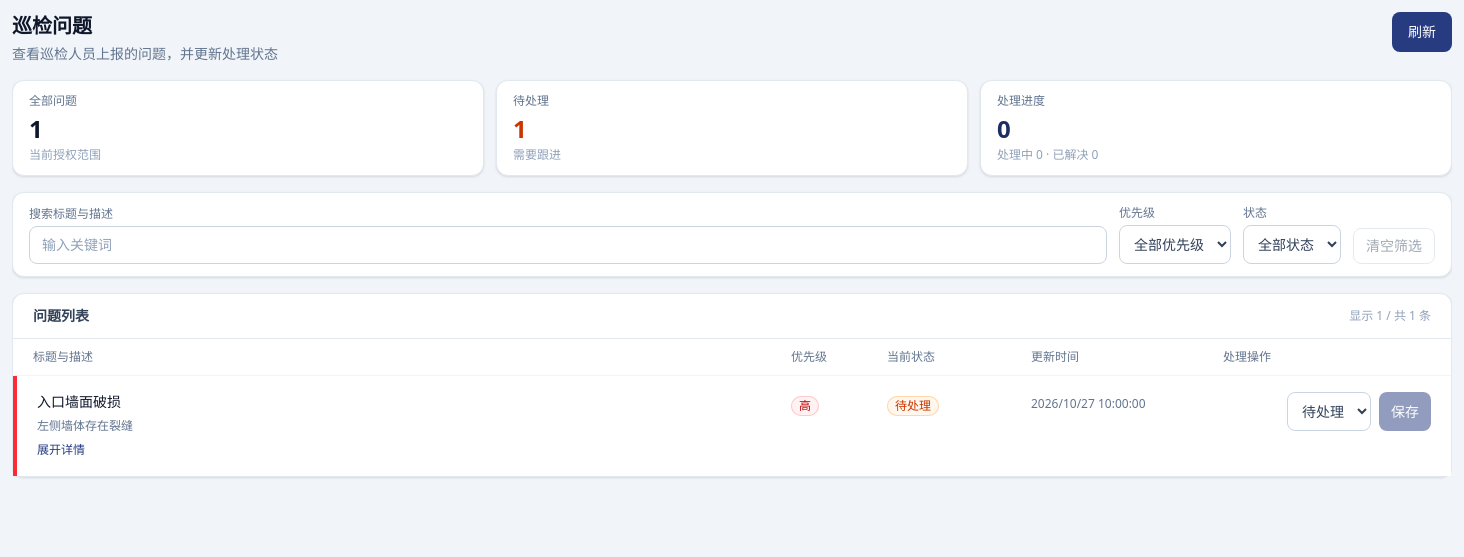
Scenario: 实时事件合并（事件序） › 保存进行中收到远端更新同一行：事件不取消保存，保存完成后以服务端响应为准
The image size is (1464, 557).
expect the heading "入口墙面破损" is shown: met, box [37, 392, 121, 411]
Step 1. Select "已解决" in the dropdown named "修改问题「入口墙面破损」的处理状态" → [1329, 412], box [1287, 392, 1371, 431]
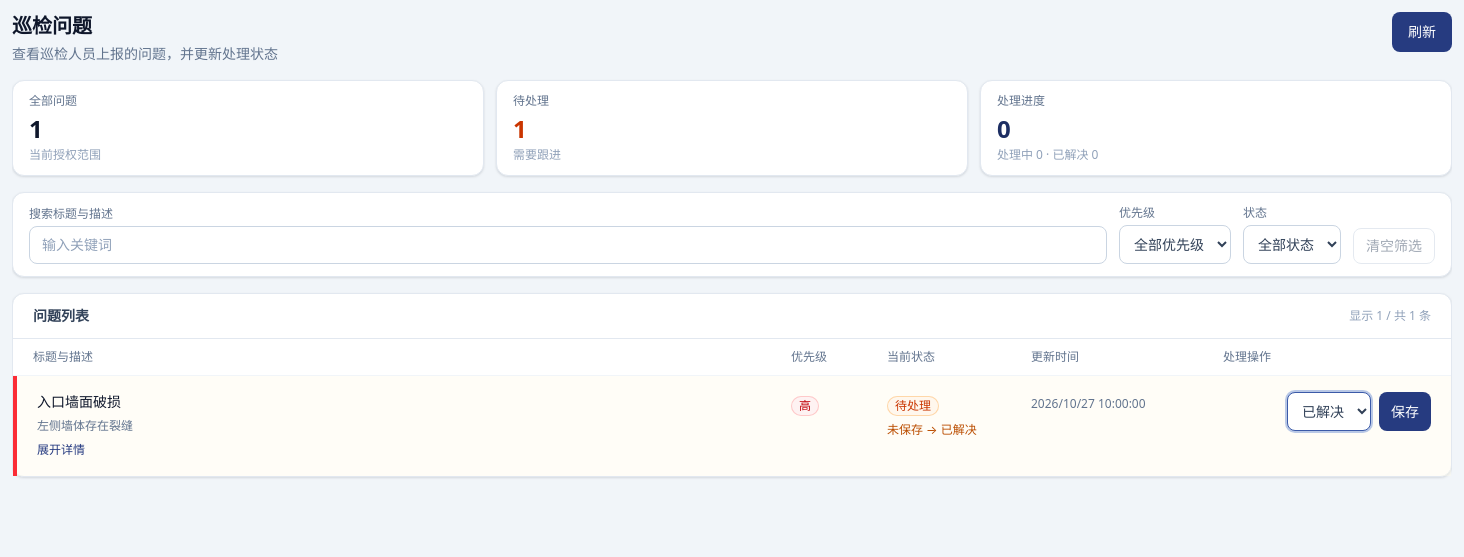
Step 2. Click the button "保存" → [1405, 412], box [1379, 392, 1431, 431]
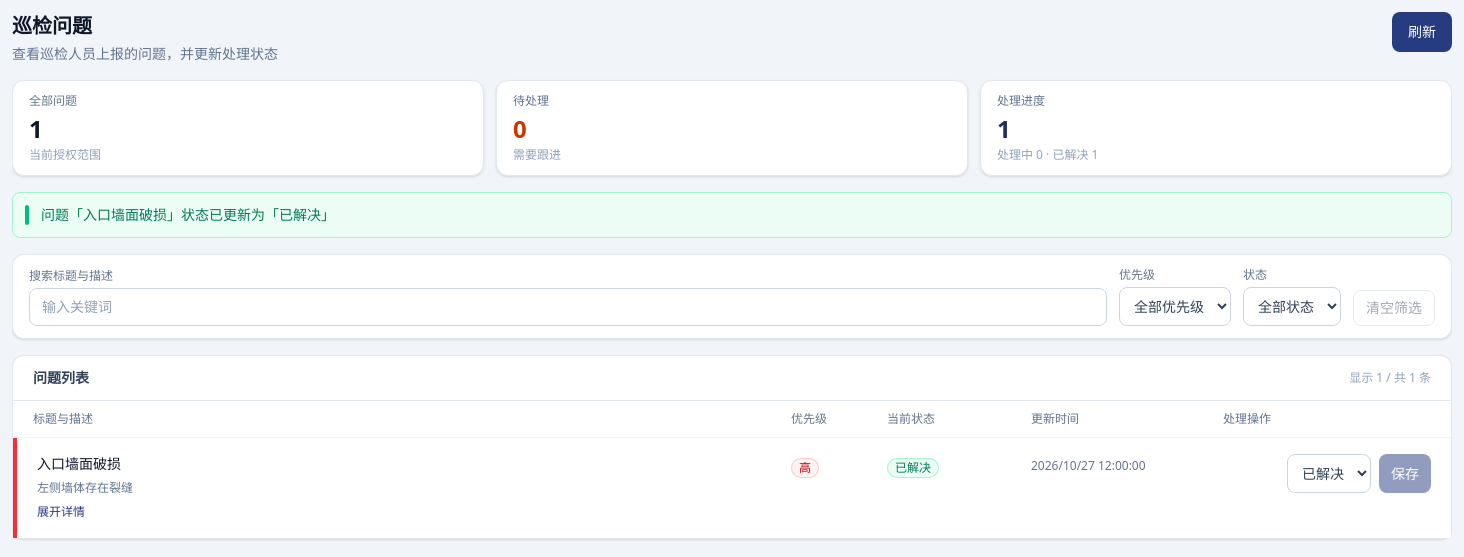
expect the text "已解决" is shown: met, box [887, 458, 939, 478]
expect the text "问题「入口墙面破损」状态已更新为「已解决」" is shown: met, box [41, 205, 335, 224]
